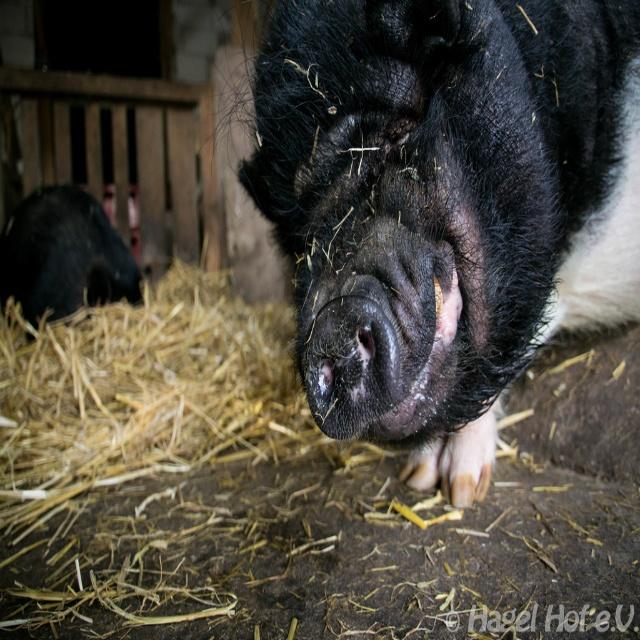Pig: (196, 0, 640, 507), (4, 184, 145, 343)
